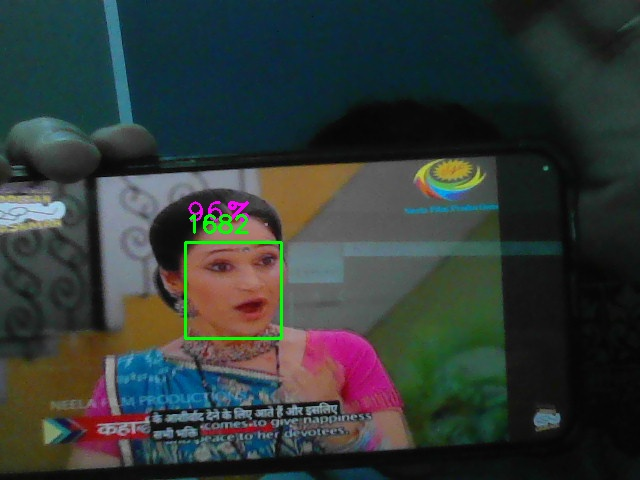fake: (185, 242, 282, 339)
